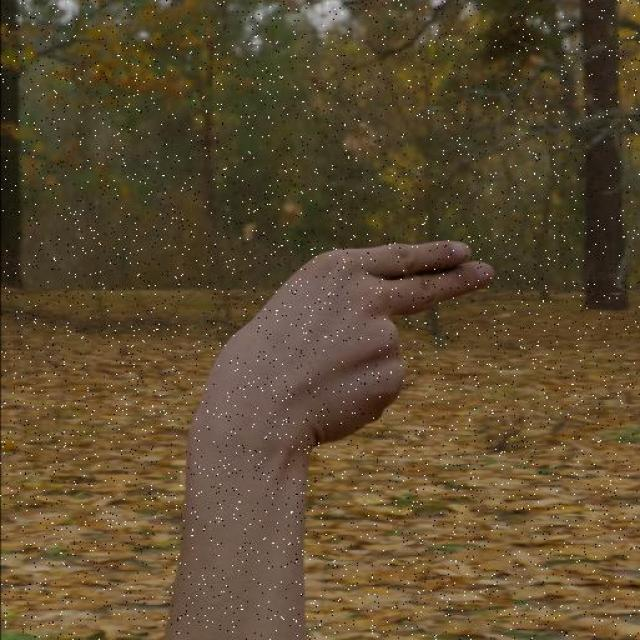H: (186, 234, 499, 468)
